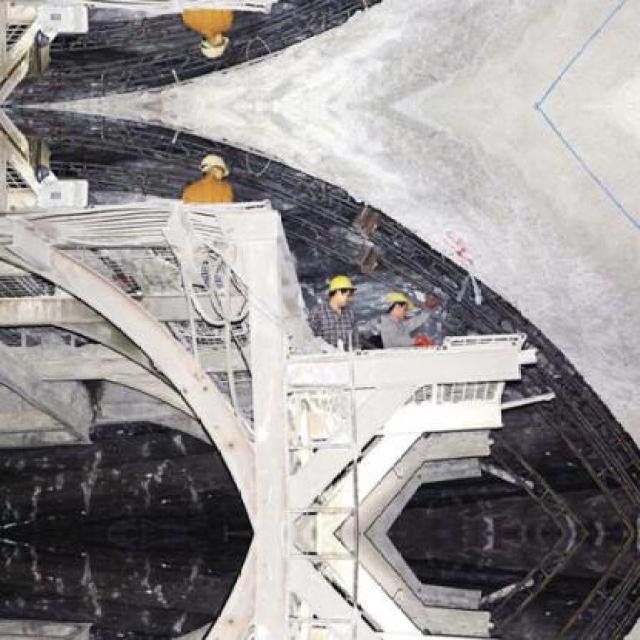helmet: (327, 272, 356, 309), (383, 290, 417, 318), (200, 151, 228, 181), (200, 32, 228, 61)
